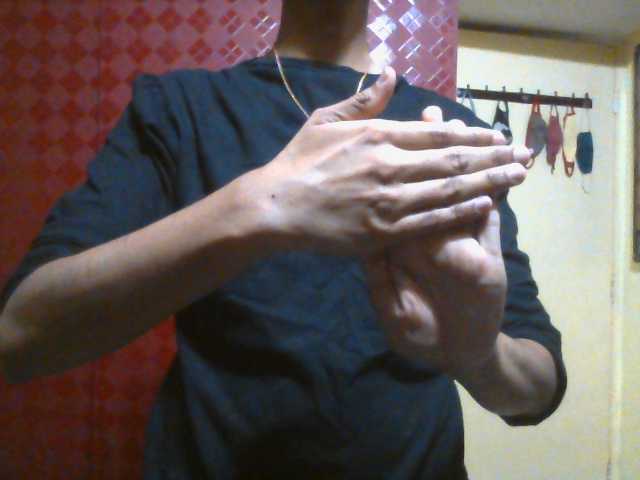H: (277, 66, 535, 372)
